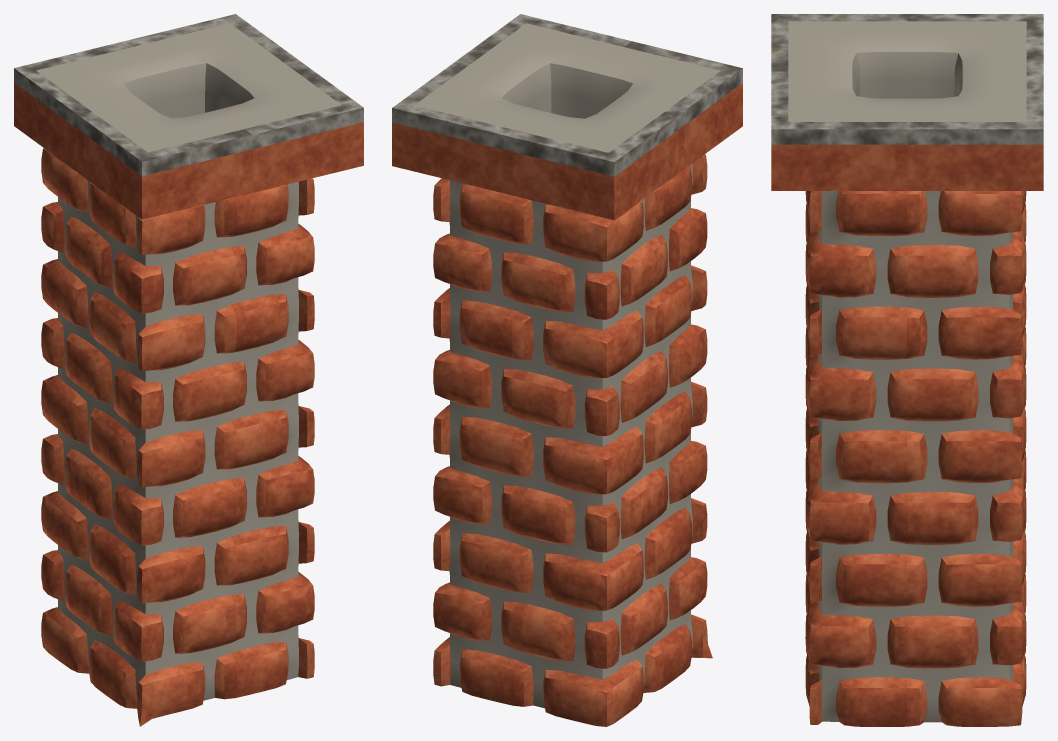
File: roof_chimney_brick.glb
The picture shows the model from 3 angles, left to right: view 1: azimuth 30°, elevation 25°; view 2: azimuth 150°, elevation 25°; view 3: azimuth 270°, elevation 25°; orthographic projection. The views are drawn at different scales.
Visible parts, largest first — view 1: town_roof_chimney_brick; view 2: town_roof_chimney_brick; view 3: town_roof_chimney_brick.
Boxes of the visible parts, x1=… form: town_roof_chimney_brick: x1=14, y1=14, x2=363, y2=726; town_roof_chimney_brick: x1=392, y1=14, x2=742, y2=726; town_roof_chimney_brick: x1=771, y1=14, x2=1043, y2=726.
Bounding box in the file's own units: 0.5 × 1.25 × 0.5.
2 materials, 1 textured.
